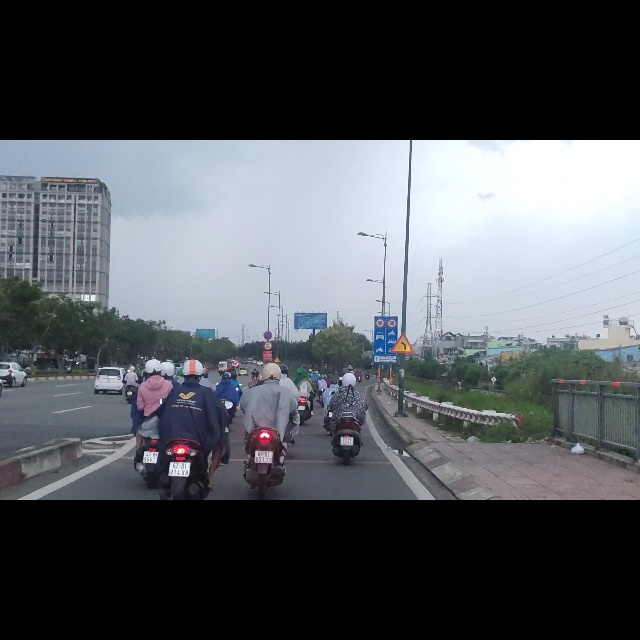bien_chi_dan: (390, 340, 415, 380), (374, 315, 385, 335), (386, 315, 397, 335), (262, 338, 273, 357), (262, 357, 272, 375), (274, 384, 281, 396)
